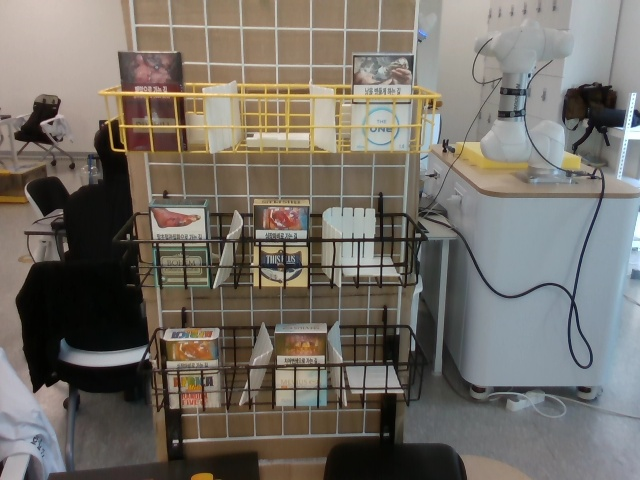africa: (165, 327, 221, 408)
bohem: (150, 199, 209, 285)
dunhill: (118, 50, 187, 151)
mevius: (274, 324, 327, 407)
the one: (353, 53, 408, 149)
this plus: (255, 198, 309, 287)
